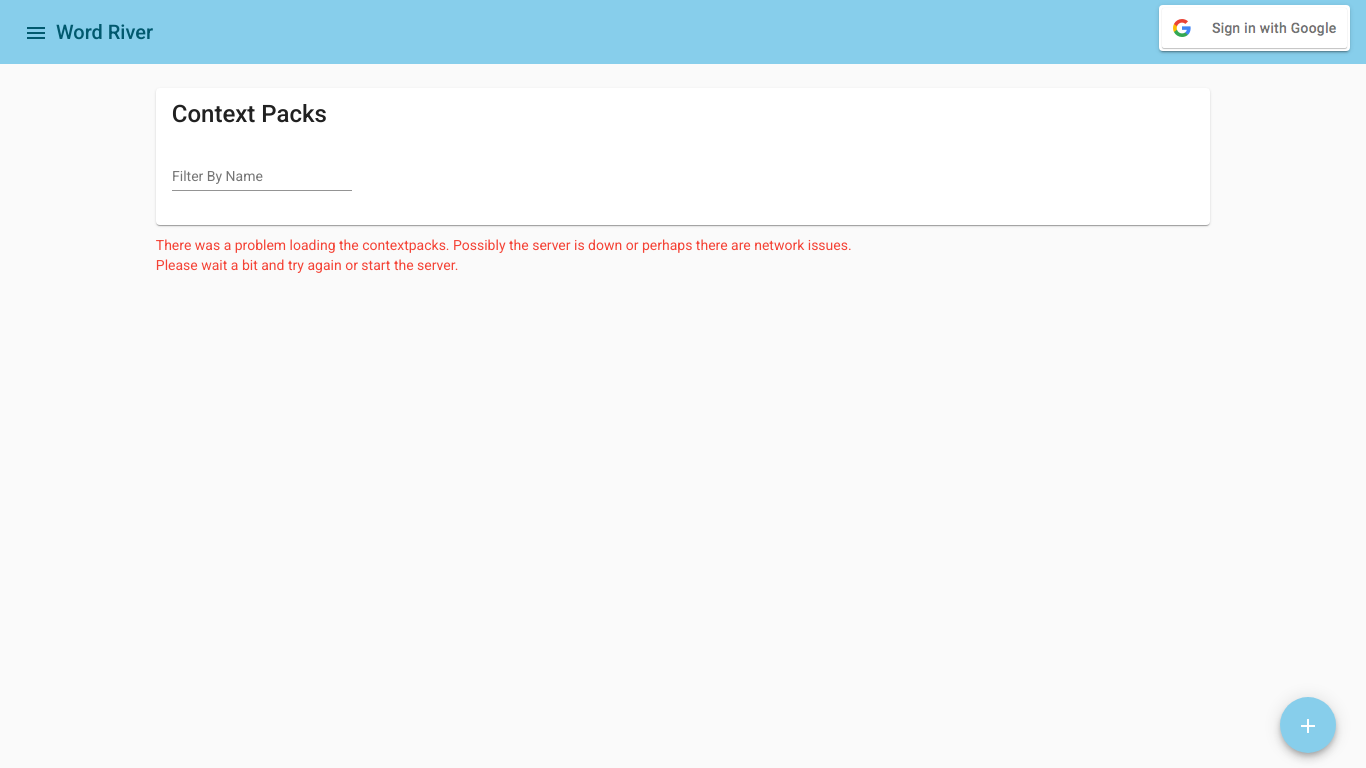
App › Sidenav › Should be openable by clicking the sidenav button
Click the button with class "sidenav-button" at point(36, 32), box [16,12,56,52]
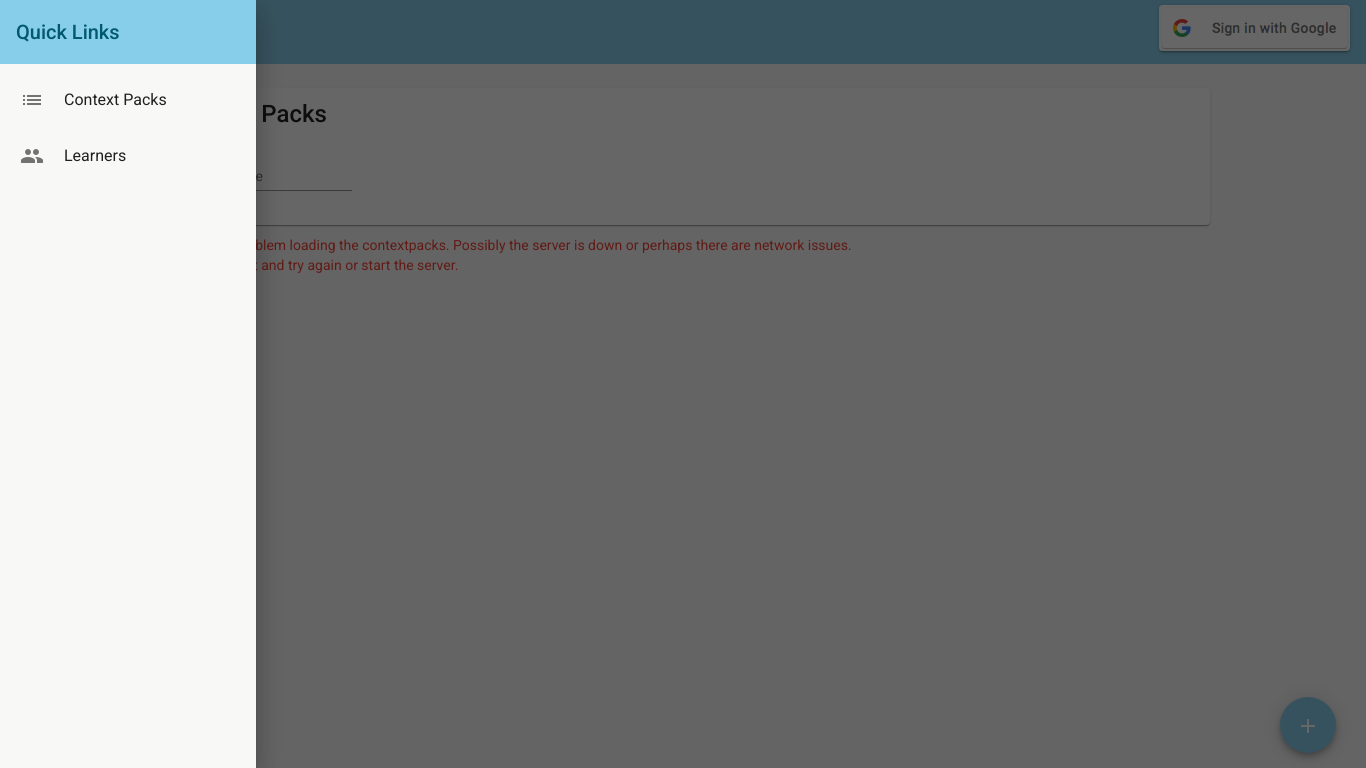
Expected: the element with class "sidenav" is shown, [0,0,256,767]
